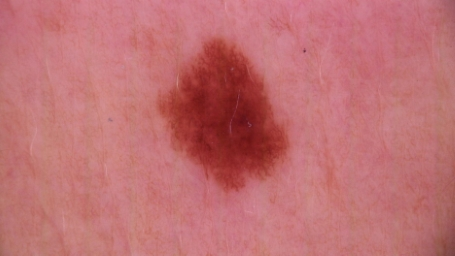melanoma: (157, 42, 288, 194)
